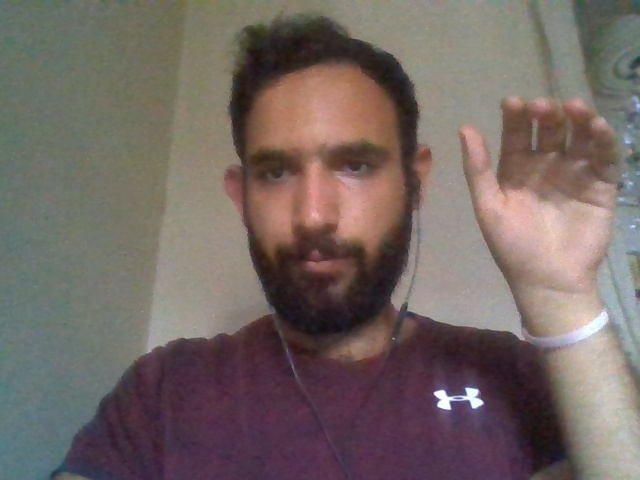Snake: (448, 83, 640, 480)
